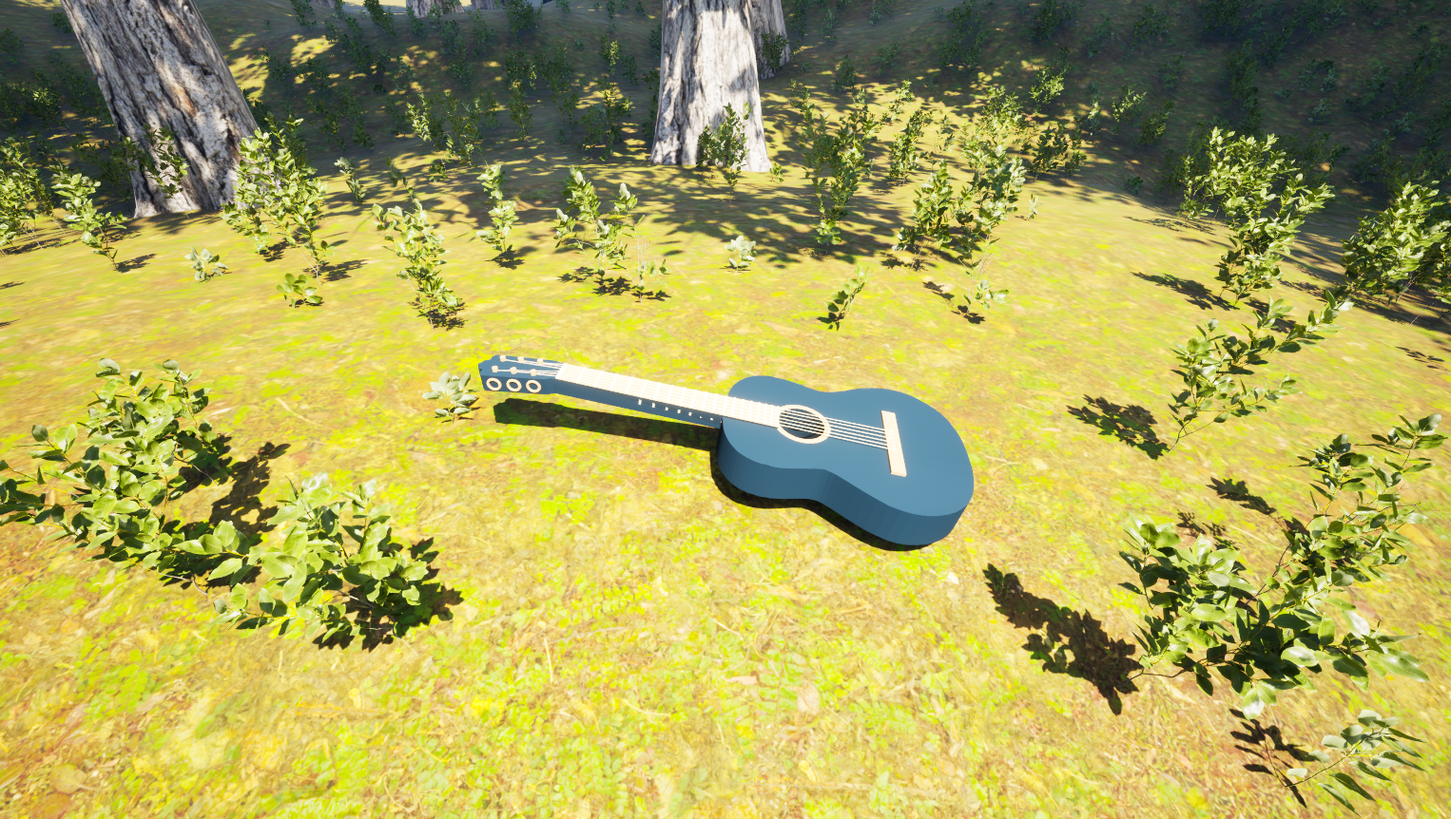Guitar: (420, 308, 1023, 559)
